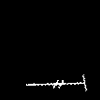treble_crochet: (26, 76, 86, 89)
